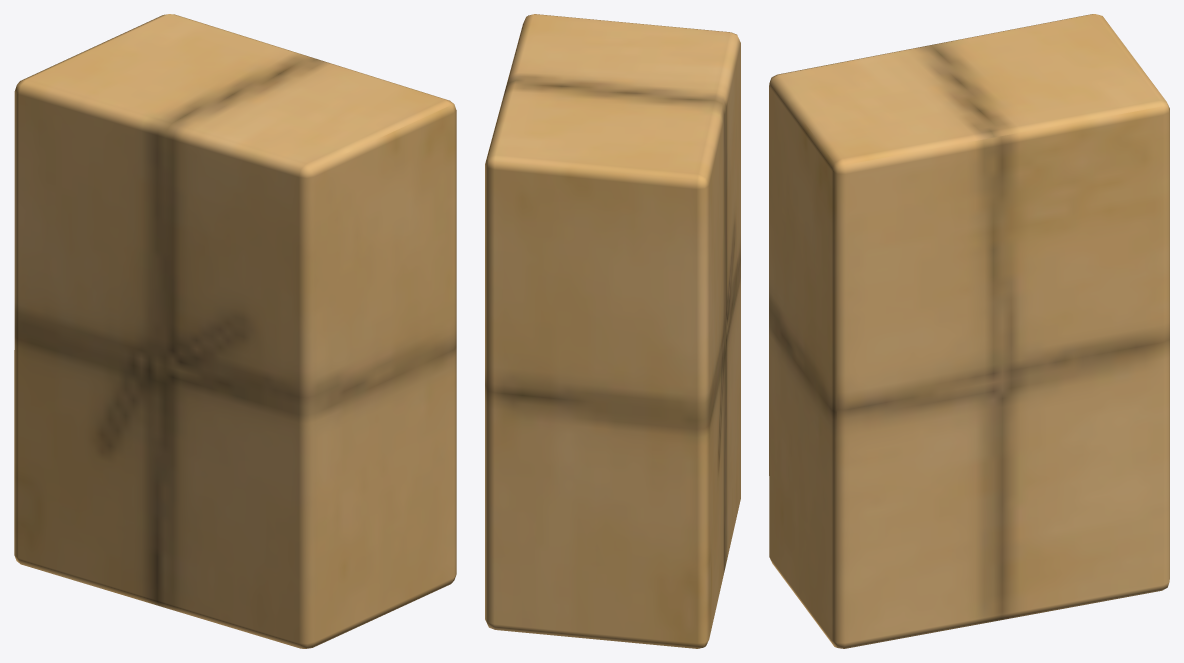
Rendered from Gift.glb.
3 views of the same model, side by side, from view 1: azimuth 30°, elevation 25°; view 2: azimuth 150°, elevation 25°; view 3: azimuth 270°, elevation 25° (orthographic). The views are drawn at different scales.
Parts seen in each view (by area): view 1: SM_DressTabPerfumeBox; view 2: SM_DressTabPerfumeBox; view 3: SM_DressTabPerfumeBox.
Part boxes in pixels (<box>): SM_DressTabPerfumeBox: <box>14,14,456,648</box>; SM_DressTabPerfumeBox: <box>485,14,740,648</box>; SM_DressTabPerfumeBox: <box>769,14,1169,648</box>.
Bounding box in the file's own units: 0.0806 × 0.1196 × 0.0887.
1 material, 1 textured.
